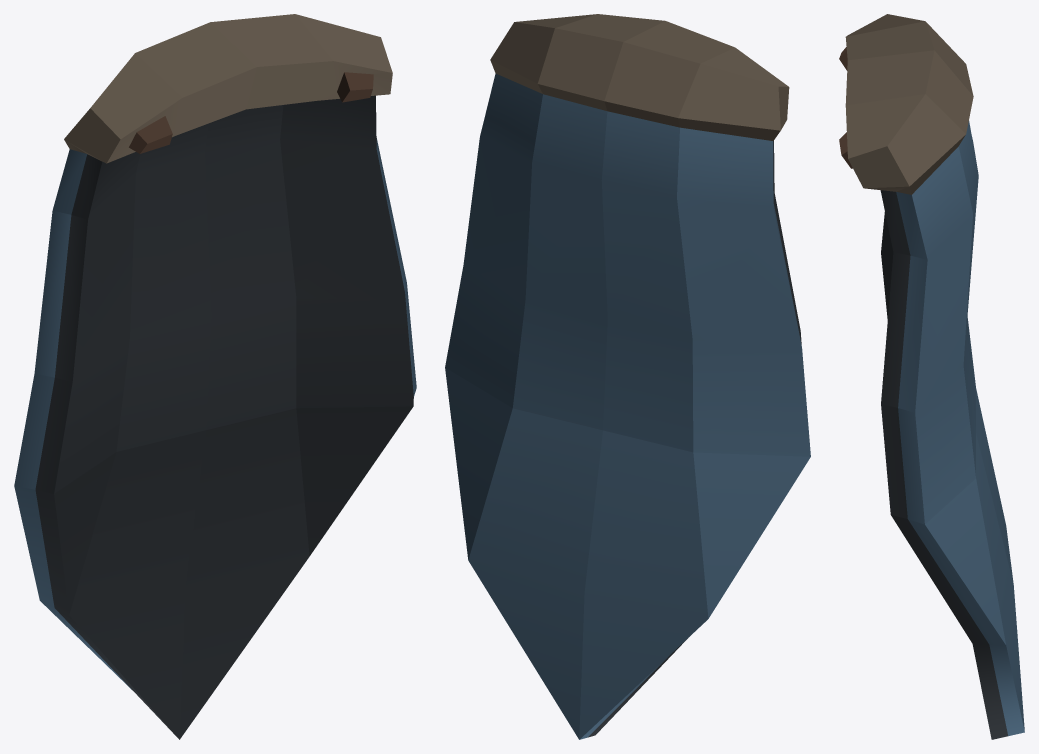
Rendered from Chr_BackAttachment_09_Static.fbx.
3 renders of one model, left to right at view 1: azimuth 30°, elevation 25°; view 2: azimuth 150°, elevation 25°; view 3: azimuth 270°, elevation 25°, orthographic. The views are drawn at different scales.
Parts seen in each view (by area): view 1: Chr_BackAttachment_09_Static; view 2: Chr_BackAttachment_09_Static; view 3: Chr_BackAttachment_09_Static.
Part boxes in pixels (bbox=[...]): Chr_BackAttachment_09_Static: bbox=[14, 14, 416, 739]; Chr_BackAttachment_09_Static: bbox=[445, 14, 810, 739]; Chr_BackAttachment_09_Static: bbox=[839, 14, 1024, 739].
Bounding box in the file's own units: 0.5469 × 0.9611 × 0.2347.
